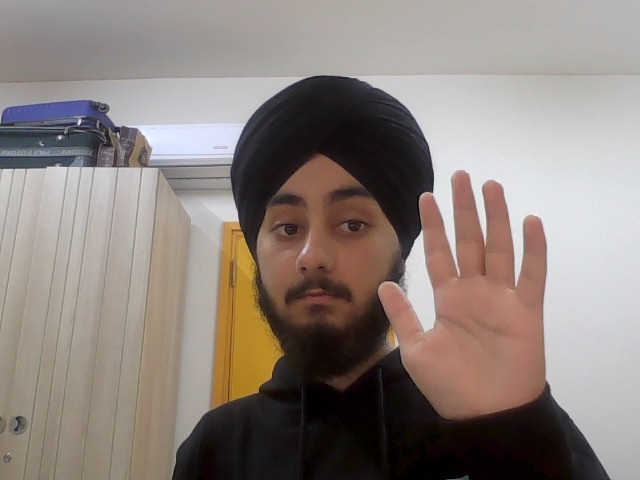Hello: (377, 169, 568, 413)
